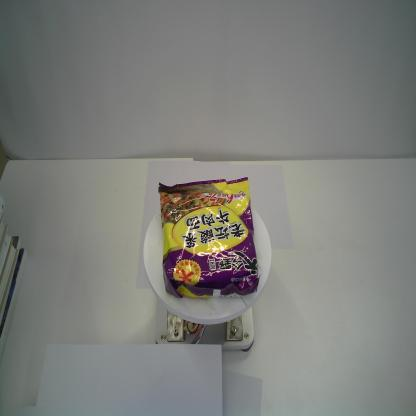Instant Noodles: (157, 175, 263, 301)
